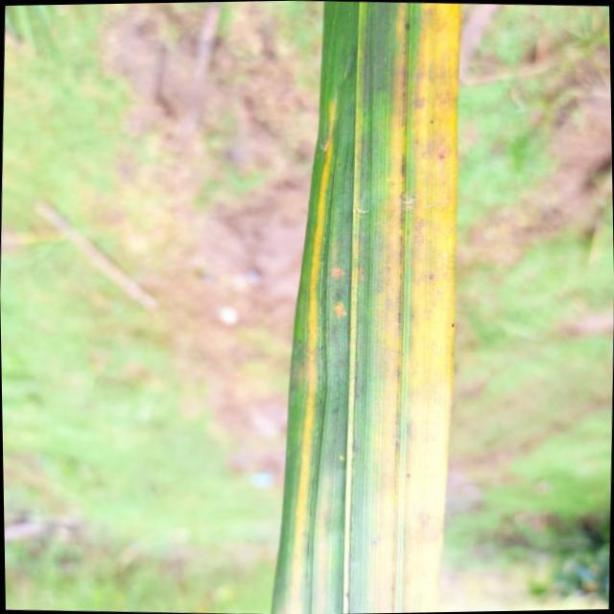Megnesium: (269, 0, 467, 614)
